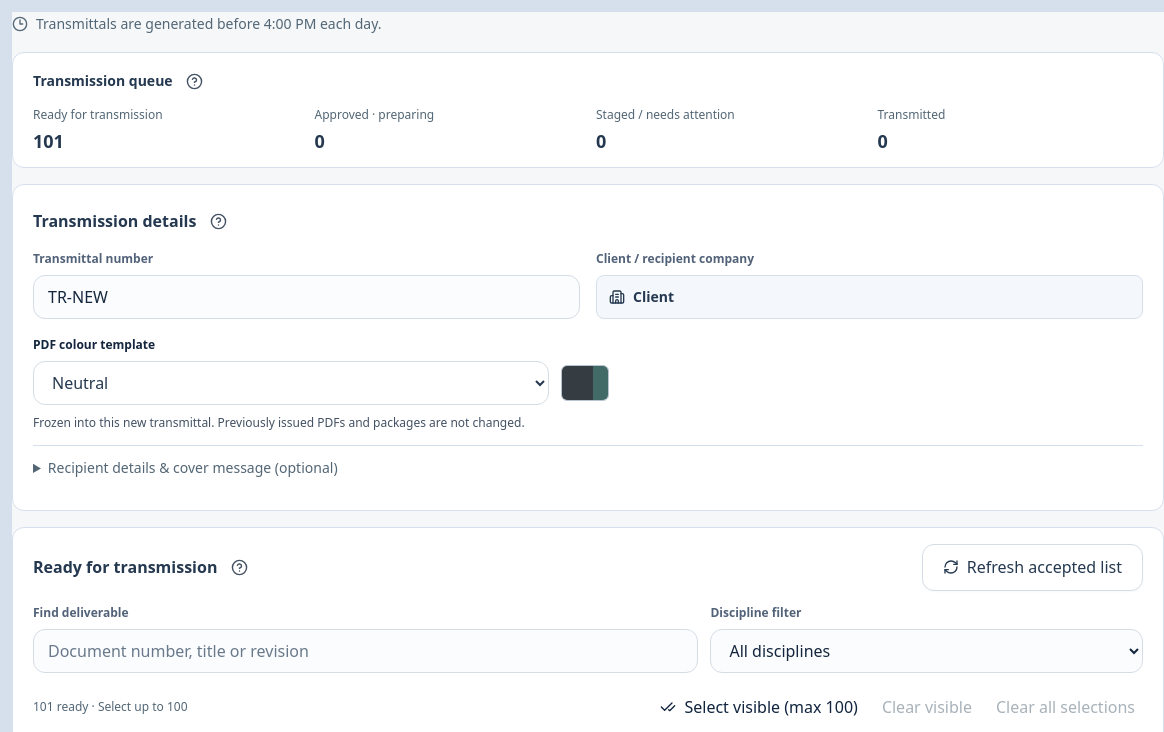
it: counts hidden selections toward the 100-revision limit and never replaces them to make room
Select "Process" in the dropdown labelled "Discipline filter": [927, 651] box [710,629,1143,673]
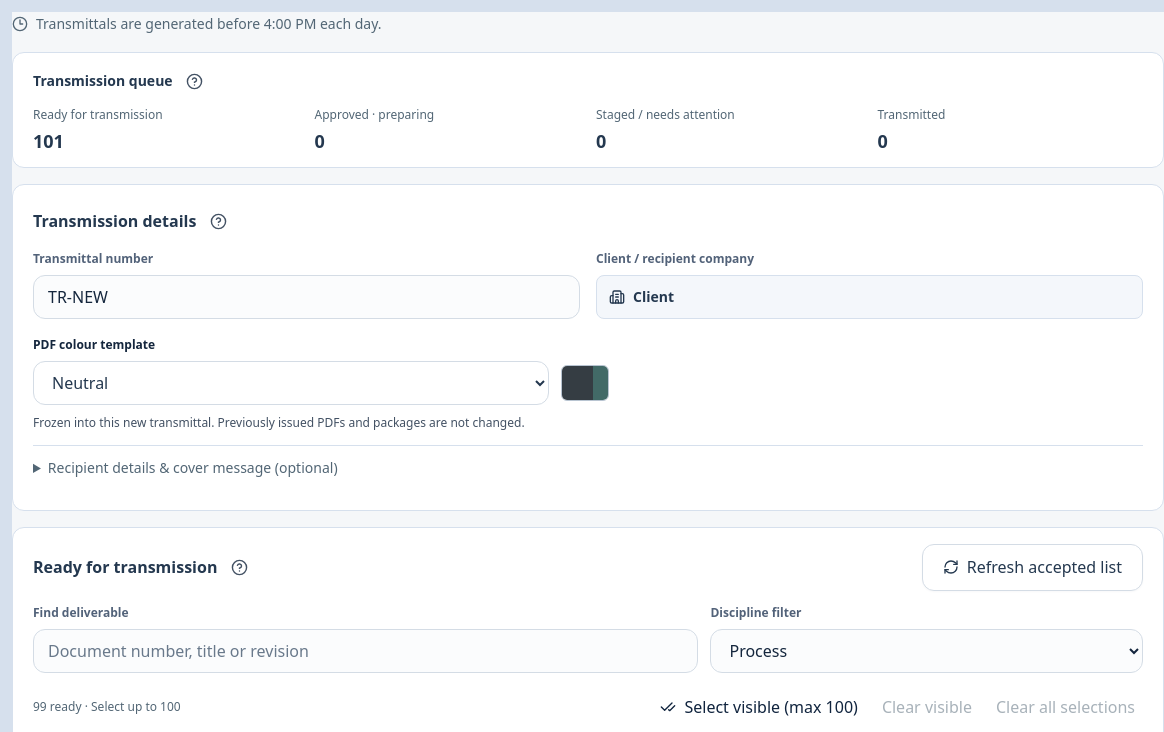
Click the button "Select visible (max 100)": [759, 707] box [652,685,866,729]
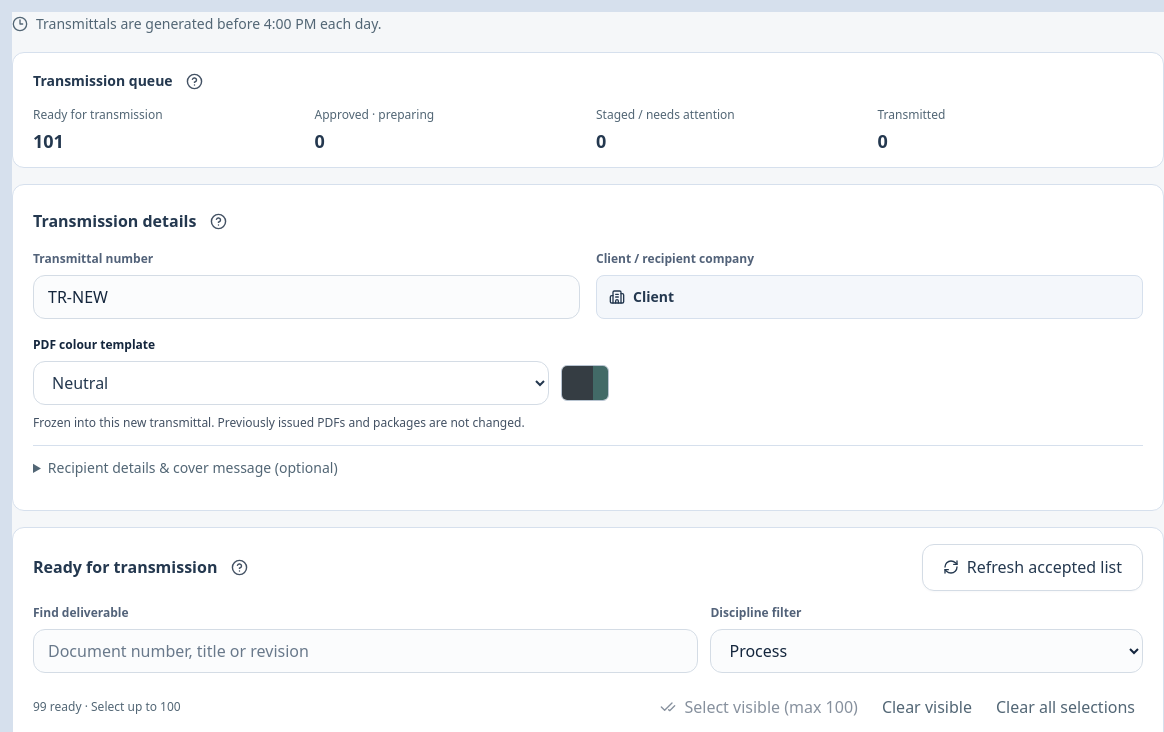
Select "Electrical" in the dropdown labelled "Discipline filter": [927, 651] box [710,629,1143,673]
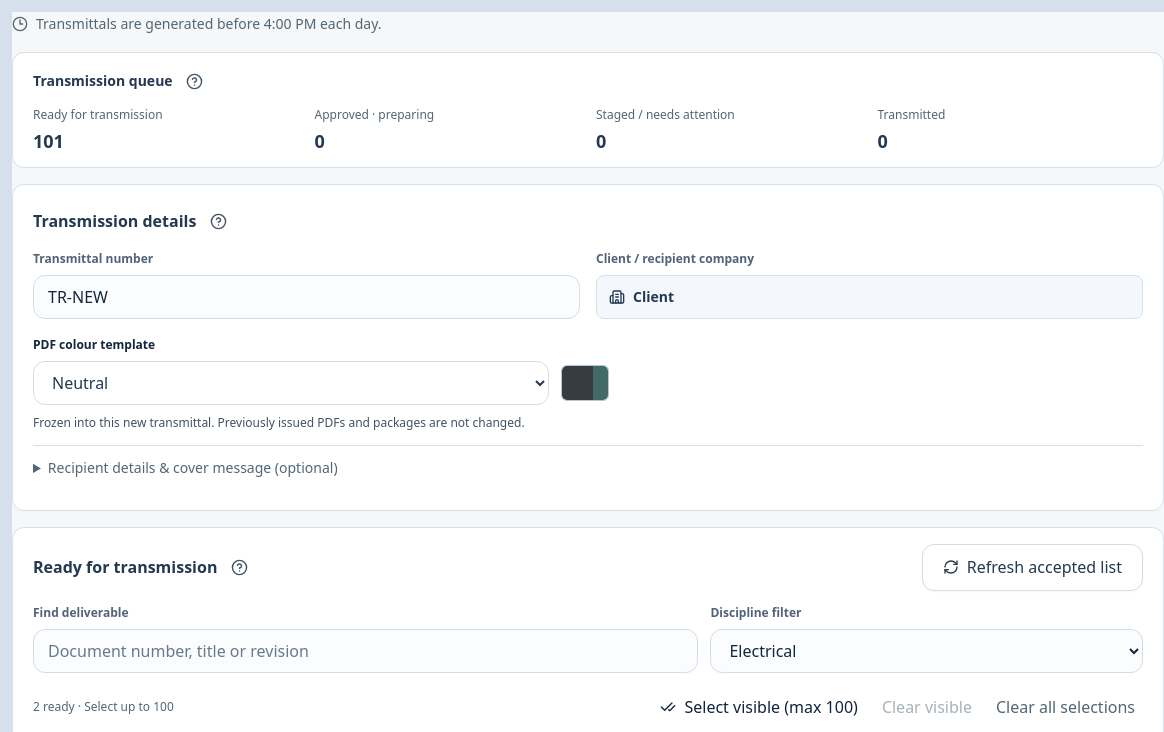
Click the button "Select visible (max 100)": [759, 707] box [652,685,866,729]
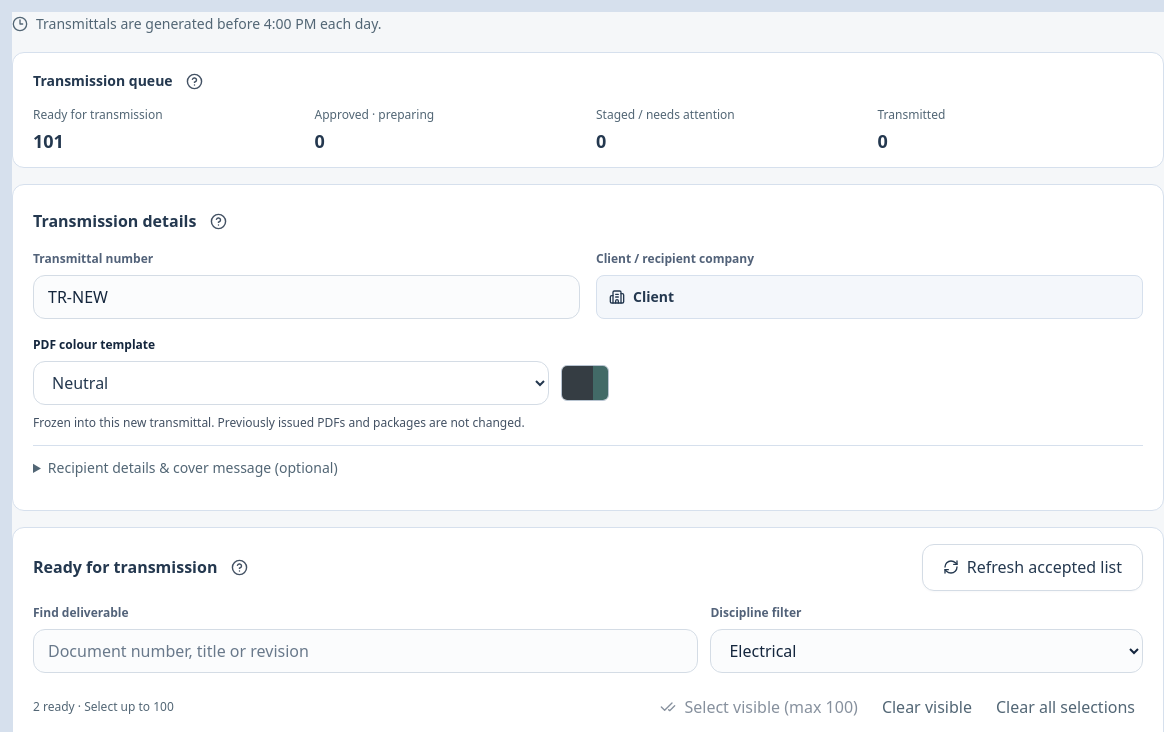
Now the button "Select visible (max 100)" is disabled, box [652,685,866,729]
